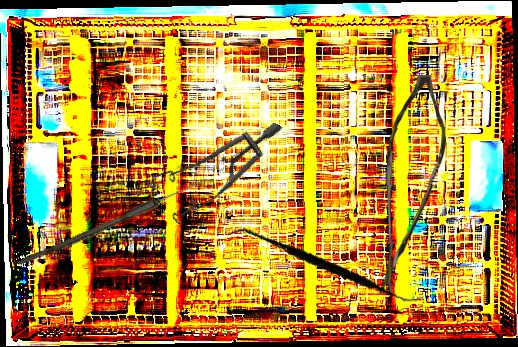Micro Scissor: (374, 74, 449, 296)
Spatula Surgical: (227, 200, 422, 333)
Speculum: (135, 81, 283, 246)
Surgical Spoon: (17, 173, 209, 271)
